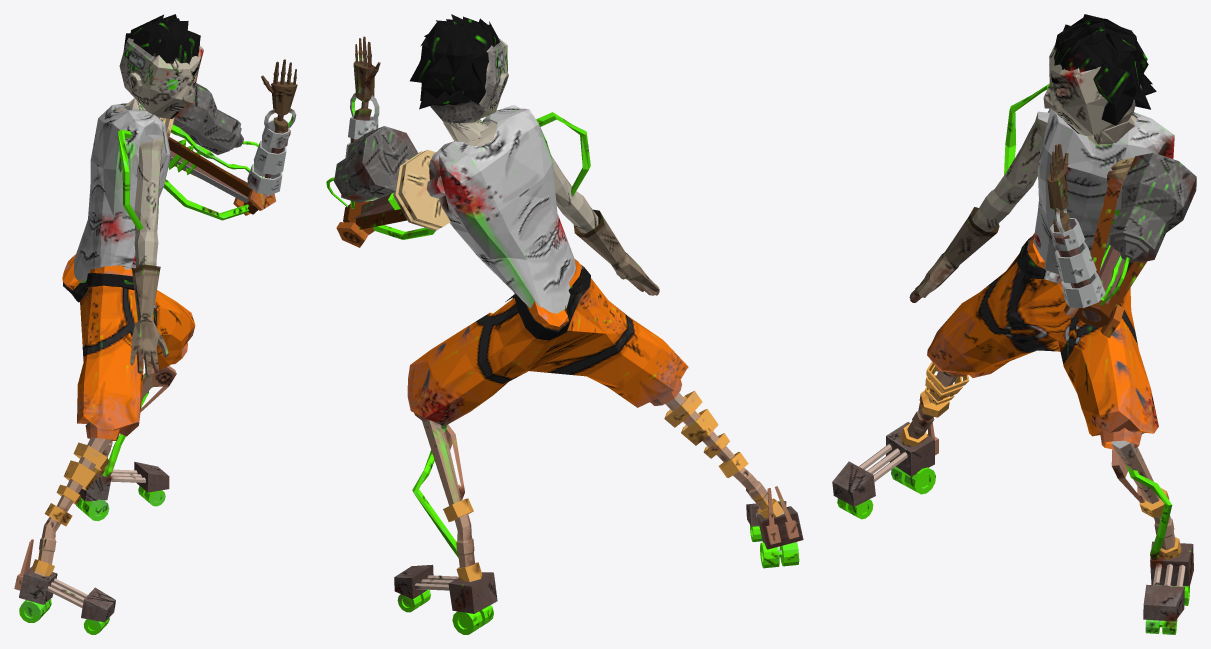
File: CyborgFINALAnimation_000055.obj
The picture shows the model from 3 angles, left to right: view 1: azimuth 30°, elevation 25°; view 2: azimuth 150°, elevation 25°; view 3: azimuth 270°, elevation 25°; orthographic projection. The views are drawn at different scales.
Parts seen in each view (by area): view 1: CyborgMesh_Cube.002; view 2: CyborgMesh_Cube.002; view 3: CyborgMesh_Cube.002.
Part boxes in pixels (x1=…): CyborgMesh_Cube.002: x1=14, y1=14, x2=297, y2=634; CyborgMesh_Cube.002: x1=326, y1=14, x2=803, y2=634; CyborgMesh_Cube.002: x1=832, y1=14, x2=1196, y2=634.
Bounding box in the file's own units: 6.04 × 8.65 × 4.7.
